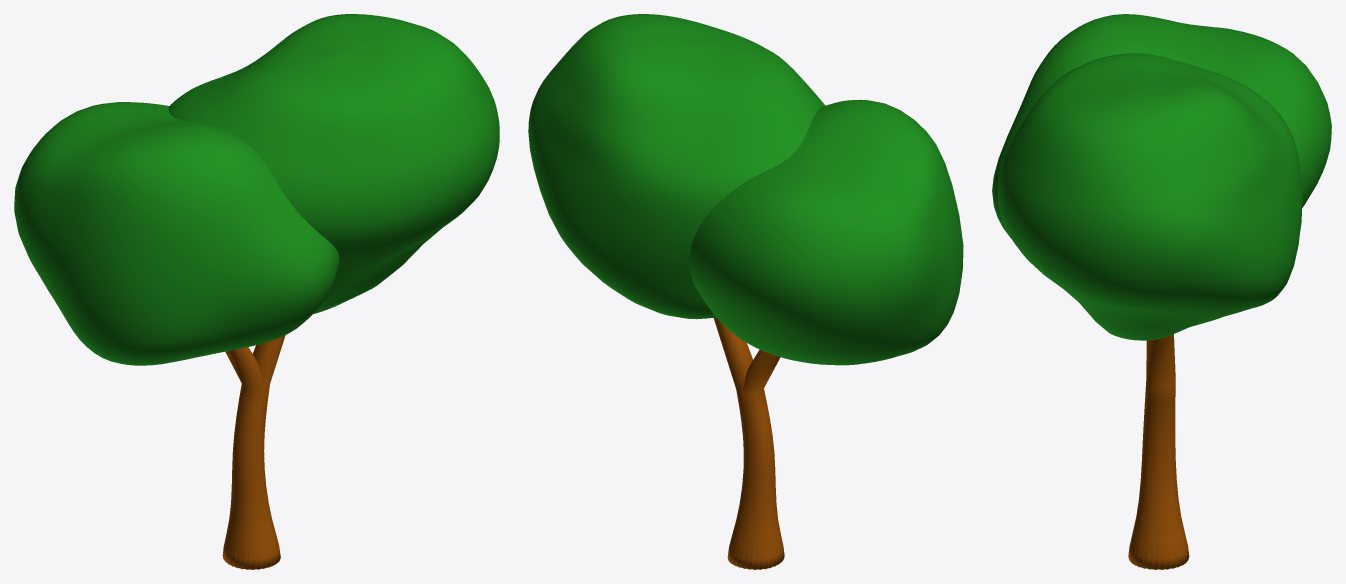
The model's file is tree.fbx.
The picture shows the model from 3 angles, left to right: view 1: azimuth 30°, elevation 25°; view 2: azimuth 150°, elevation 25°; view 3: azimuth 270°, elevation 25°; orthographic projection. The views are drawn at different scales.
Parts seen in each view (by area): view 1: govde; view 2: govde; view 3: govde.
Part boxes in pixels (<box>): govde: <box>14,14,499,569</box>; govde: <box>528,14,963,569</box>; govde: <box>992,14,1331,569</box>.
Size of the model in its own units: 660 by 747 by 439.
Materials: 2 (2 with a texture image).
